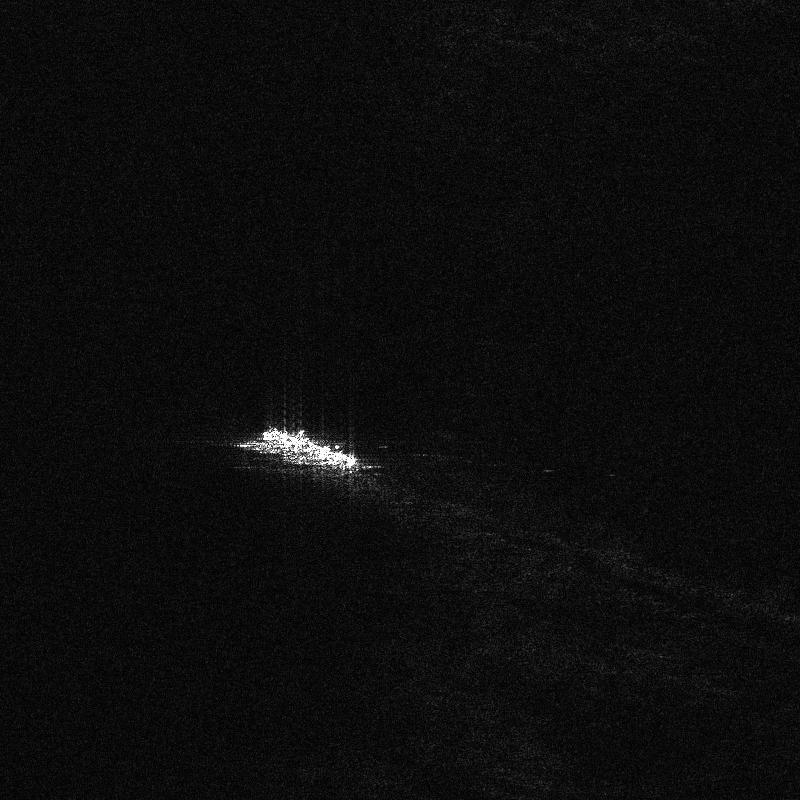ship: (261, 427, 356, 470)
